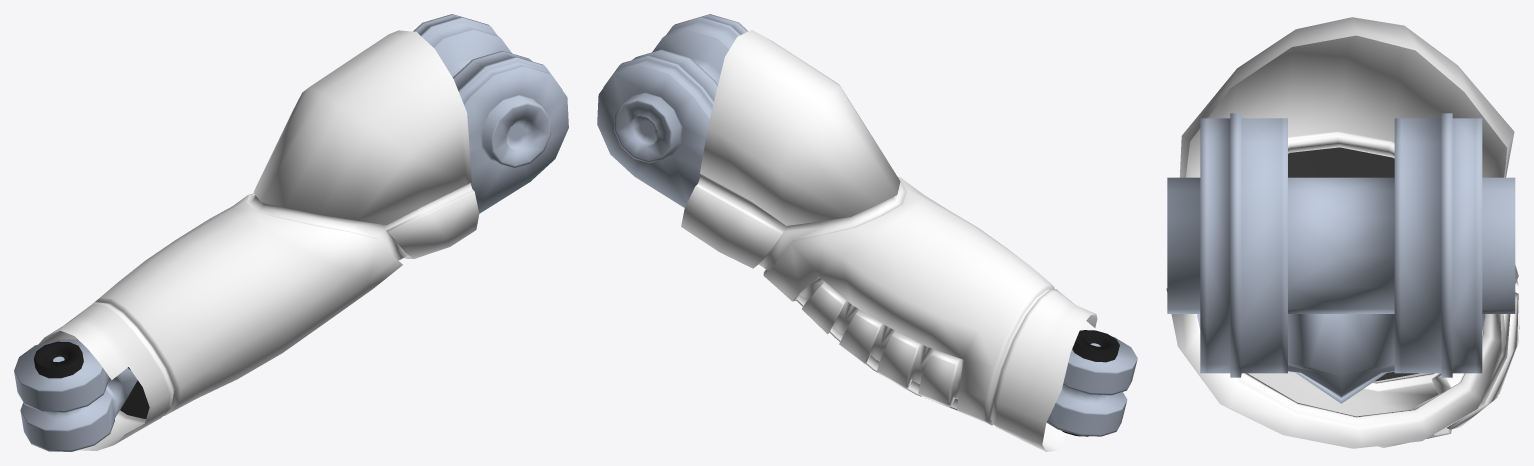
Rendered from rightBicep.dae.
3 views of the same model, side by side, from view 1: azimuth 30°, elevation 25°; view 2: azimuth 150°, elevation 25°; view 3: azimuth 270°, elevation 25° (orthographic). The views are drawn at different scales.
Parts seen in each view (by area): view 1: Mesh_012, Circle_079, Circle_162; view 2: Mesh_012, Circle_079, Circle_162; view 3: Circle_079, Mesh_012.
Part boxes in pixels (left/top/right/bottom): Mesh_012: left=38, top=30, right=479, bottom=450; Circle_079: left=413, top=14, right=568, bottom=213; Circle_162: left=14, top=339, right=137, bottom=451; Mesh_012: left=681, top=30, right=1097, bottom=451; Circle_079: left=597, top=14, right=747, bottom=207; Circle_162: left=1046, top=330, right=1137, bottom=436; Circle_079: left=1167, top=113, right=1515, bottom=403; Mesh_012: left=1166, top=17, right=1519, bottom=448.
Bounding box in the file's own units: 4.75 × 1.45 × 2.98.
